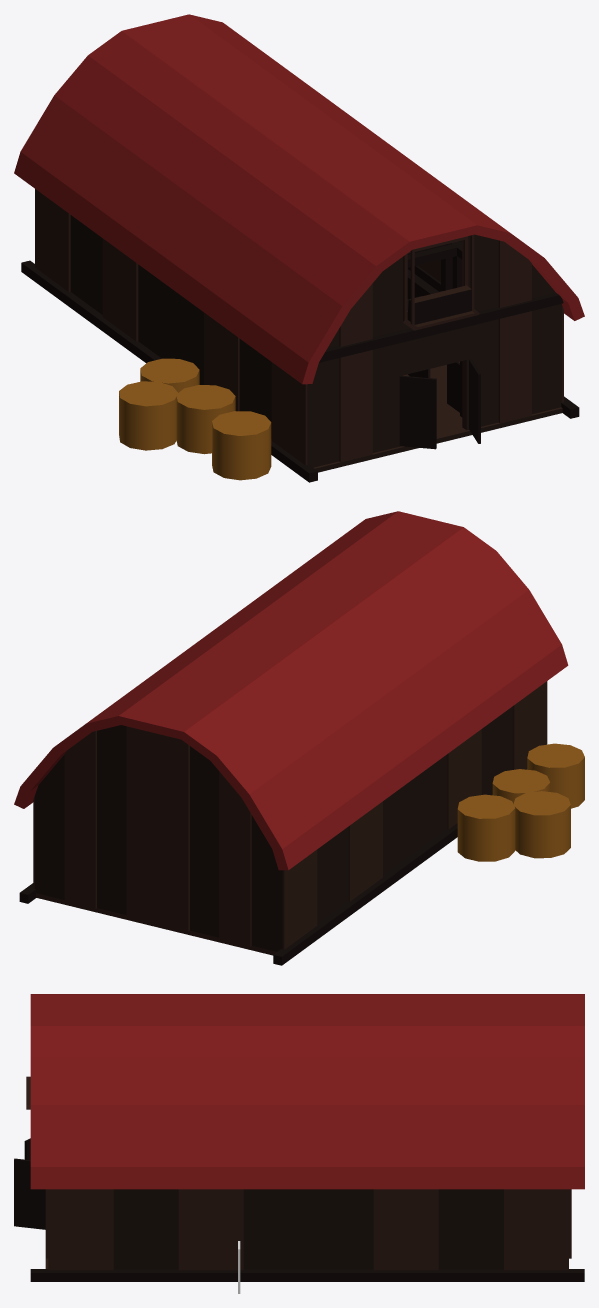
The model's file is Barn.FBX.
The picture shows the model from 3 angles, top to bottom: view 1: azimuth 30°, elevation 25°; view 2: azimuth 150°, elevation 25°; view 3: azimuth 270°, elevation 25°; orthographic projection. The views are drawn at different scales.
Visible parts, largest first — view 1: BarnRoof, Walls, Palha009, Palha007, Palha005, Barra002, Barra1, BigDoor002, Palha008, BigDoor1, Box029, Box037; view 2: BarnRoof, Walls, Palha008, Palha007, Barra002, Palha009, Palha005; view 3: BarnRoof, Walls, Barra003, BigDoor1.
Boxes of the visible parts, x1,y1,x2,y2 form: BarnRoof: (14, 14, 584, 384); Walls: (35, 189, 563, 472); Palha009: (212, 411, 271, 480); Palha007: (119, 381, 177, 450); Palha005: (176, 385, 235, 454); Barra002: (21, 260, 317, 482); Barra1: (319, 293, 563, 362); BigDoor002: (399, 376, 436, 449); Palha008: (140, 358, 199, 392); BigDoor1: (469, 359, 480, 443); Box029: (407, 310, 459, 412); Box037: (407, 241, 462, 267); BarnRoof: (14, 511, 568, 870); Walls: (33, 681, 547, 955); Palha008: (457, 794, 515, 861); Palha007: (513, 791, 570, 858); Barra002: (273, 823, 457, 965); Palha009: (527, 743, 584, 808); Palha005: (492, 769, 550, 803); BarnRoof: (30, 994, 584, 1189); Walls: (26, 1076, 571, 1270); Barra003: (30, 1269, 584, 1281); BigDoor1: (14, 1158, 45, 1229).
Size of the model in its own units: 182 by 95.33 by 232.
